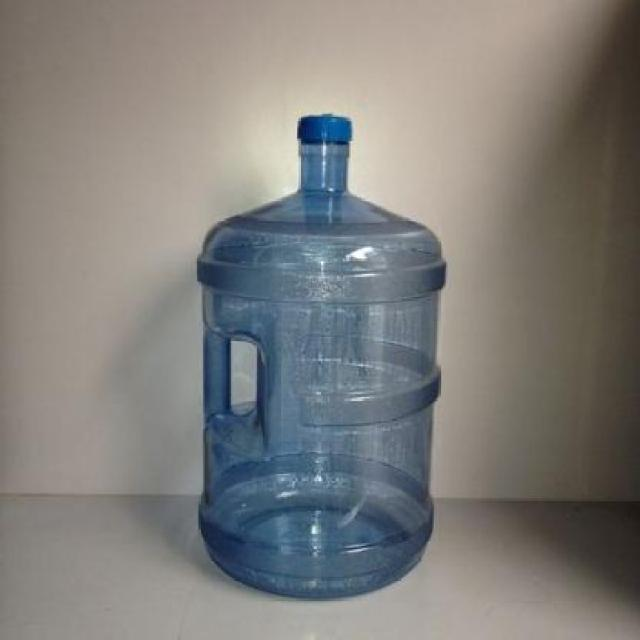coolerbottle: (192, 109, 450, 601)
